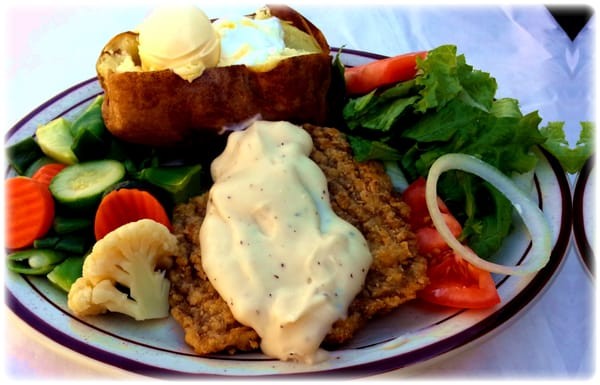pizza: (5, 176, 58, 250)
